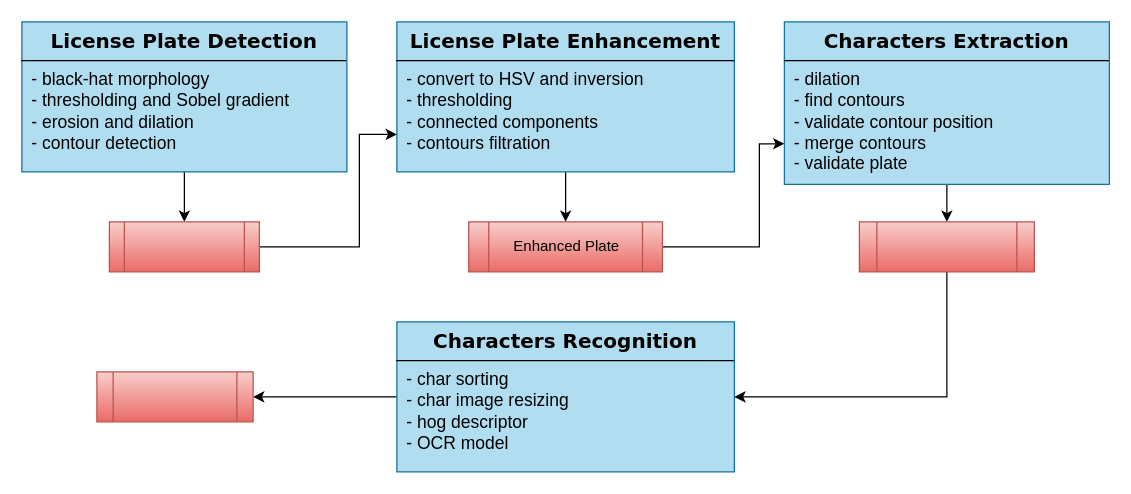
The diagram is 1131 pixels wide and 494 high, and some of its shapes have lost their labels. Here are the shapes that lost their labels. From the top down, the centre of each, then its label:
(183,246): Cropped Plate
(946,246): Filtered Plate
(174,396): Plate Number
